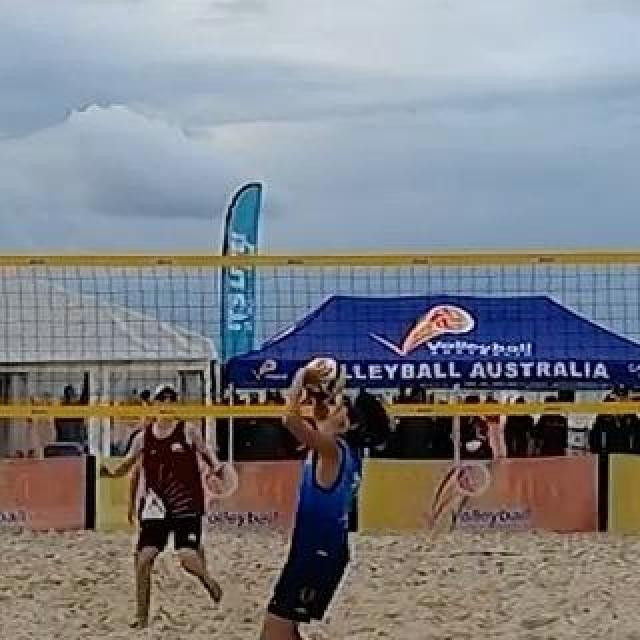volleyball: (302, 354, 348, 400)
